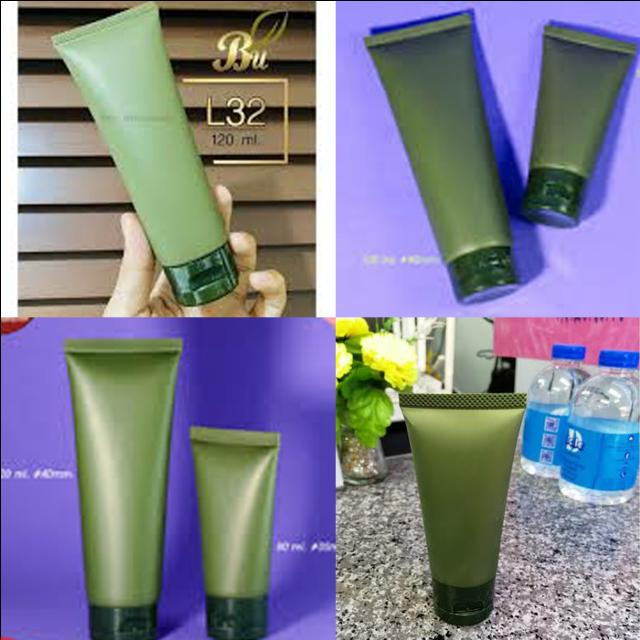plastik: (53, 0, 238, 305), (364, 11, 518, 302), (63, 337, 181, 640), (399, 392, 525, 625), (522, 23, 636, 226), (189, 425, 278, 640), (558, 349, 639, 504), (520, 343, 589, 478)
